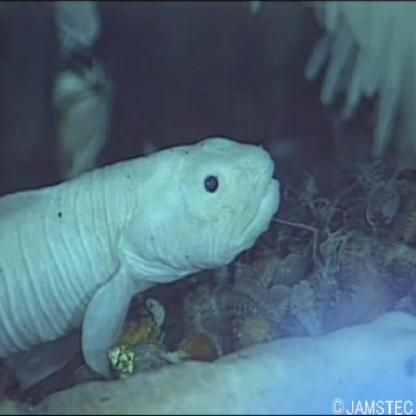Bio: (1, 130, 287, 380)
